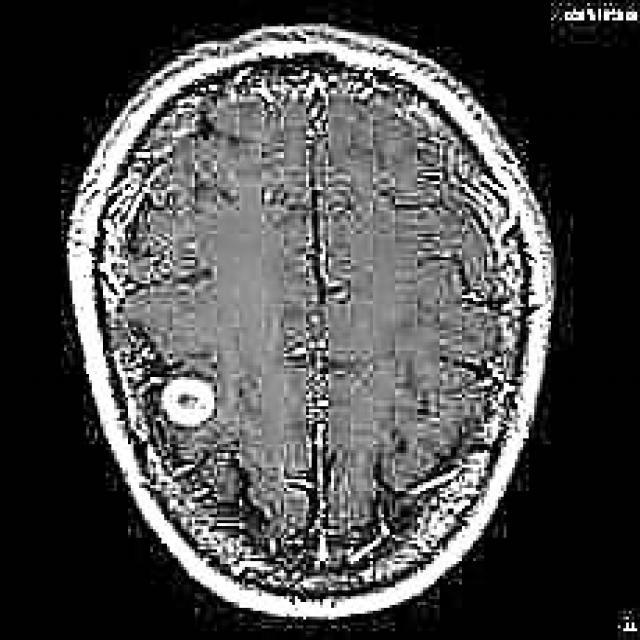tumor: (158, 375, 214, 436)
